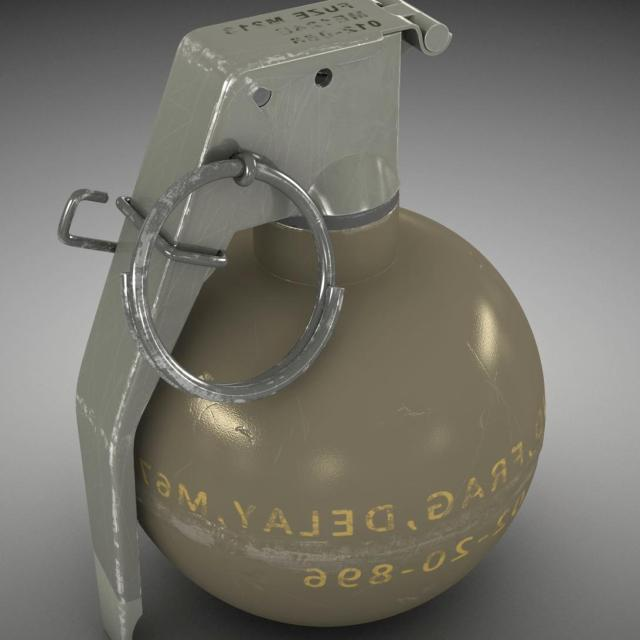grenade: (62, 1, 548, 640)
